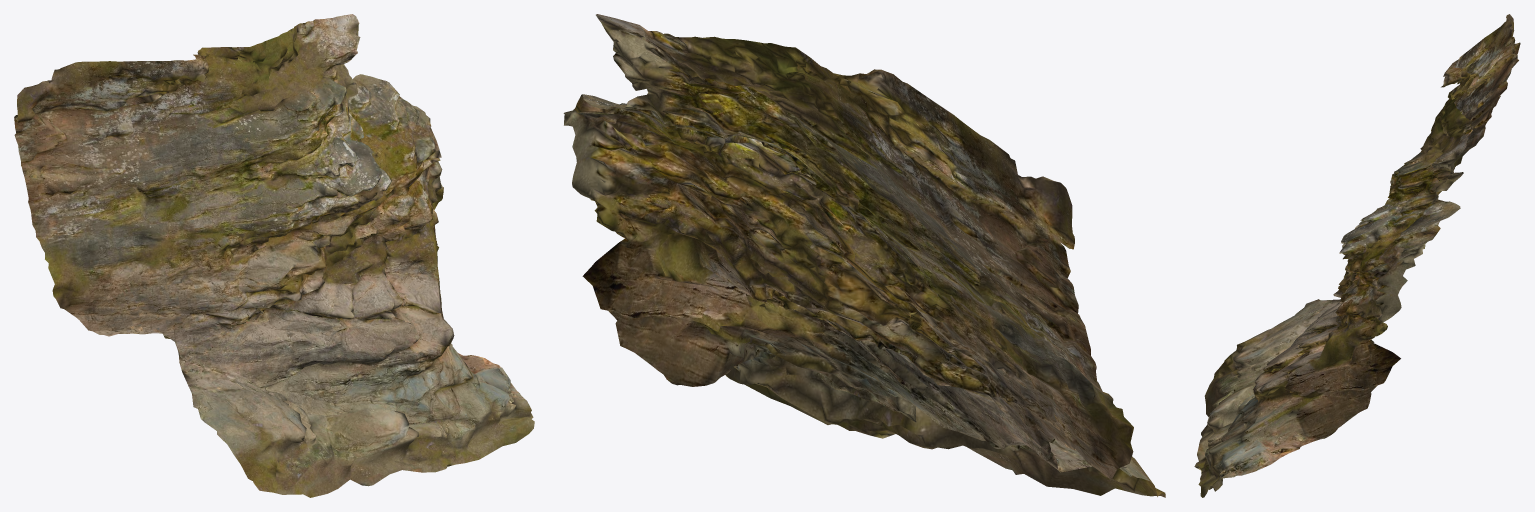
The model's file is rock_face_02.gltf.
The picture shows the model from 3 angles, left to right: view 1: azimuth 30°, elevation 25°; view 2: azimuth 150°, elevation 25°; view 3: azimuth 270°, elevation 25°; orthographic projection. The views are drawn at different scales.
Visible parts, largest first — view 1: rock_face_02; view 2: rock_face_02; view 3: rock_face_02.
Part boxes in pixels (x1=…): rock_face_02: x1=14, y1=14, x2=534, y2=497; rock_face_02: x1=563, y1=14, x2=1165, y2=497; rock_face_02: x1=1194, y1=14, x2=1520, y2=497.
Size of the model in its own units: 2.71 by 2.47 by 2.13.
Materials: 1 (1 with a texture image).
